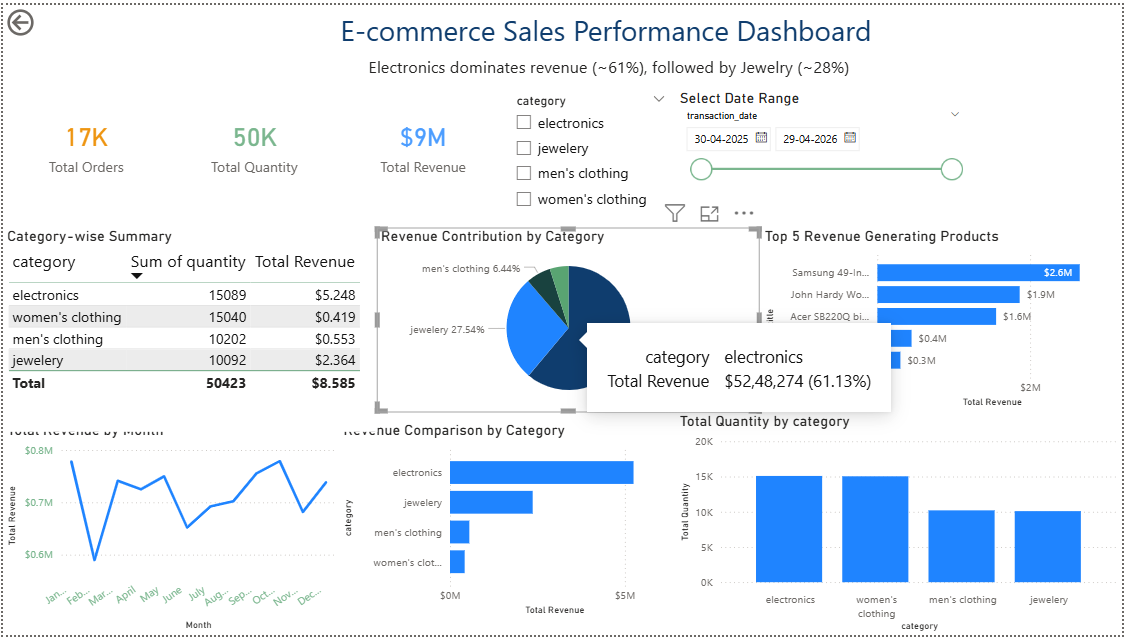

This screenshot's page, from the dashboard's own definition file:
{"tool":"powerbi","page":{"name":"Page 1","canvas":[1280,720],"ordinal":0},"visuals":[{"type":"card","fields":{"Values":["products_cleaned_realistic.Total Orders"]},"box":[0,94.6,190.6,132.7],"z":0},{"type":"card","fields":{"Values":["products_cleaned_realistic.Total Revenue"]},"box":[385.4,94.6,189.2,132.7],"z":1000},{"type":"card","fields":{"Values":["products_cleaned_realistic.Total Quantity"]},"box":[190.6,94.6,194.8,132.7],"z":2000},{"type":"clusteredBarChart","title":"Revenue Comparison by Category","fields":{"Category":["products_cleaned_realistic.category"],"Y":["products_cleaned_realistic.Total Revenue"]},"box":[385.1,476,383.7,227.4],"z":3000},{"type":"clusteredColumnChart","fields":{"Category":["products_cleaned_realistic.category"],"Y":["products_cleaned_realistic.Total Quantity"]},"box":[769,465.2,511.3,255],"z":4000},{"type":"lineChart","fields":{"Category":["products_cleaned_realistic.transaction_date.Variation.Date Hierarchy.Month"],"Y":["products_cleaned_realistic.Total Revenue"]},"box":[0,465.4,385.8,254.4],"z":5000},{"type":"pieChart","title":"Revenue Contribution by Category","fields":{"Category":["products_cleaned_realistic.category"],"Y":["products_cleaned_realistic.Total Revenue"]},"box":[427.7,254.4,438.9,211.1],"z":6000},{"type":"textbox","box":[345.9,1.4,711.5,66.4],"z":7000},{"type":"textbox","box":[412.2,52.2,625.4,42.4],"z":8000},{"type":"slicer","title":"Select Date Range","fields":{"Values":["products_cleaned_realistic.transaction_date"]},"box":[768.7,95,336.8,132.8],"z":9000},{"type":"slicer","fields":{"Values":["products_cleaned_realistic.category"]},"box":[574.5,95,194.3,159.3],"z":10000},{"type":"clusteredBarChart","title":"Top 5 Revenue Generating Products","fields":{"Category":["products_cleaned_realistic.title"],"Y":["products_cleaned_realistic.Total Revenue"]},"box":[866.6,254.4,413.7,211.1],"z":11000},{"type":"tableEx","title":"Category-wise Summary","fields":{"Values":["products_cleaned_realistic.category","Sum(products_cleaned_realistic.quantity)","products_cleaned_realistic.final"]},"box":[0,254.4,427.7,191.5],"z":12000},{"type":"actionButton","box":[0,0,100,40],"z":13000}]}

Visuals, with their boxes in screenshot pixels (x1, y1, x2, y2), scaled from the page's 1280x720 canvas onto the 1127x639 screenshot:
card - products_cleaned_realistic.Total Orders: bbox=(0, 84, 168, 202)
card - products_cleaned_realistic.Total Revenue: bbox=(339, 84, 506, 202)
card - products_cleaned_realistic.Total Quantity: bbox=(168, 84, 339, 202)
"Revenue Comparison by Category" clusteredBarChart: bbox=(339, 422, 677, 624)
clusteredColumnChart - products_cleaned_realistic.category x products_cleaned_realistic.Total Quantity: bbox=(677, 413, 1126, 638)
lineChart - products_cleaned_realistic.transaction_date.Variation.Date Hierarchy.Month x products_cleaned_realistic.Total Revenue: bbox=(0, 413, 340, 638)
"Revenue Contribution by Category" pieChart: bbox=(377, 226, 763, 413)
textbox: bbox=(305, 1, 931, 60)
textbox: bbox=(363, 46, 914, 84)
"Select Date Range" slicer: bbox=(677, 84, 973, 202)
slicer - products_cleaned_realistic.category: bbox=(506, 84, 677, 226)
"Top 5 Revenue Generating Products" clusteredBarChart: bbox=(763, 226, 1126, 413)
"Category-wise Summary" tableEx: bbox=(0, 226, 377, 396)
actionButton: bbox=(0, 0, 88, 36)
